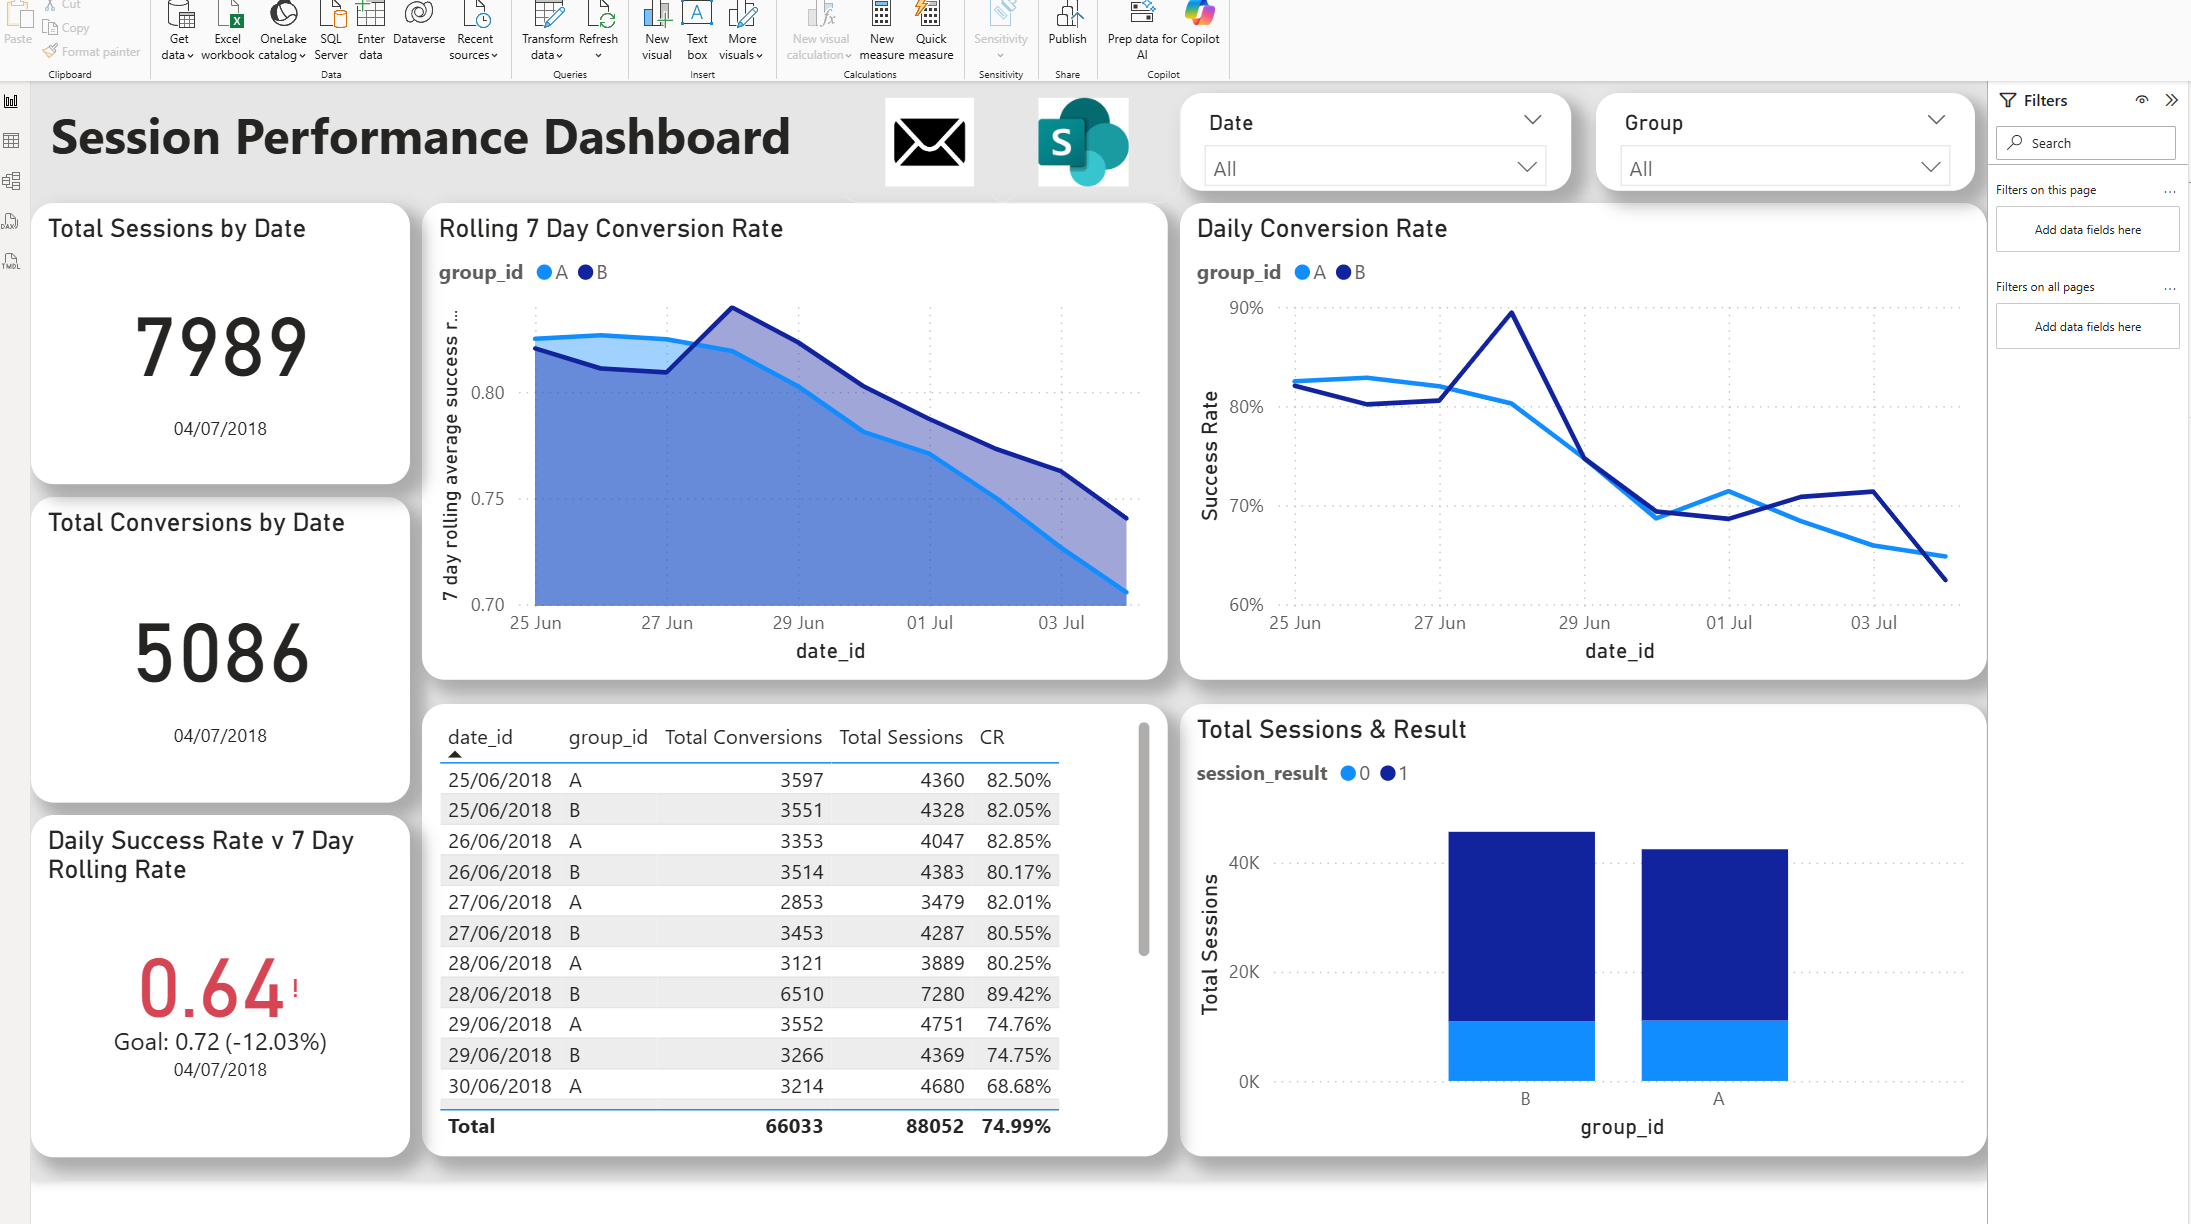

What the dashboard file says about the page in this screenshot:
{"tool":"powerbi","page":{"name":"Performance","canvas":[1280,720],"ordinal":0},"visuals":[{"type":"slicer","fields":{"Values":["test.date_id"]},"box":[752,8,256,64],"z":0},{"type":"kpi","title":"Total Conversions by Date","fields":{"Indicator":["test.Total Success"],"TrendLine":["test.date_id"]},"box":[0,272,248,200],"z":1000},{"type":"lineChart","title":"Rolling 7 Day Conversion Rate","fields":{"Series":["test.group_id"],"Y":["test.Rolling 7 Day Success Rate"],"Category":["test.date_id"]},"box":[256,80,488,312],"z":2000},{"type":"columnChart","title":"Total Sessions & Result","fields":{"Category":["test.group_id"],"Series":["test.session_result"],"Y":["test.Total Sessions"]},"box":[752,408,528,296],"z":3000},{"type":"lineChart","title":"Daily Conversion Rate","fields":{"Category":["test.date_id.Variation.Date Hierarchy.Month"],"Y":["test.Success Rate"],"Series":["test.group_id"]},"box":[752,80,528,312],"z":4000},{"type":"tableEx","fields":{"Values":["test.date_id","test.group_id","test.Total Success","test.Total Sessions","test.Success Rate"]},"box":[256,408,488,296],"z":5000},{"type":"kpi","title":"Daily Success Rate v 7 Day Rolling Rate","fields":{"Indicator":["test.Daily Success Rate"],"Goal":["test.Rolling 7 day average success rate"],"TrendLine":["test.date_id"]},"box":[0,480,248,224],"z":6000},{"type":"kpi","title":"Total Sessions by Date","fields":{"TrendLine":["test.date_id"],"Indicator":["test.Total Sessions"]},"box":[0,80,248,184],"z":7000},{"type":"textbox","box":[8,8,560,64],"z":8000},{"type":"slicer","fields":{"Values":["test.group_id"]},"box":[1024,8,248,64],"z":9000},{"type":"image","box":[528,0,120,80],"z":9001},{"type":"image","box":[624,0,128,80],"z":9002}]}

Visuals, with their boxes on the page's 1280x720 design canvas (x1, y1, x2, y2). These are canvas units, not pixel positions in the 2191x1224 screenshot, which may show the page scaled, cropped or inside an application window:
slicer - test.date_id: [left=752, top=8, right=1008, bottom=72]
"Total Conversions by Date" kpi: [left=0, top=272, right=248, bottom=472]
"Rolling 7 Day Conversion Rate" lineChart: [left=256, top=80, right=744, bottom=392]
"Total Sessions & Result" columnChart: [left=752, top=408, right=1280, bottom=704]
"Daily Conversion Rate" lineChart: [left=752, top=80, right=1280, bottom=392]
tableEx - test.date_id x test.group_id: [left=256, top=408, right=744, bottom=704]
"Daily Success Rate v 7 Day Rolling Rate" kpi: [left=0, top=480, right=248, bottom=704]
"Total Sessions by Date" kpi: [left=0, top=80, right=248, bottom=264]
textbox: [left=8, top=8, right=568, bottom=72]
slicer - test.group_id: [left=1024, top=8, right=1272, bottom=72]
image: [left=528, top=0, right=648, bottom=80]
image: [left=624, top=0, right=752, bottom=80]
